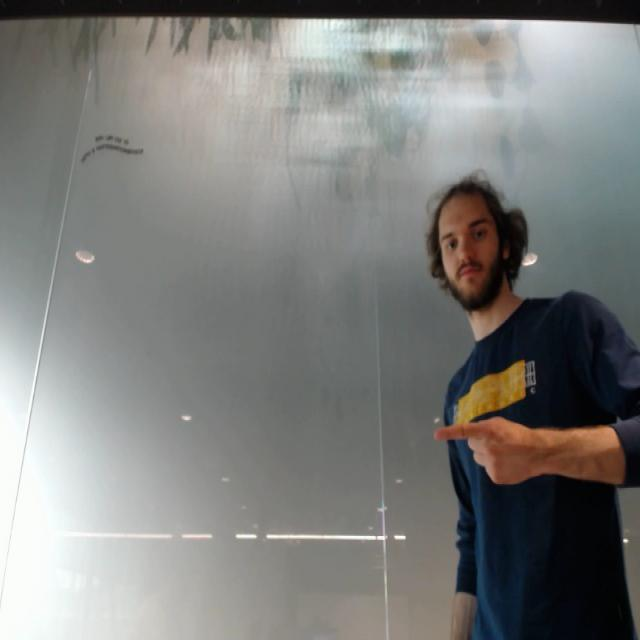left: (429, 412, 538, 488)
